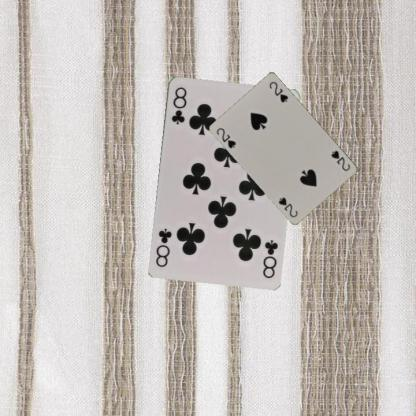2s: (214, 124, 237, 150), (329, 148, 351, 172)
8c: (260, 237, 279, 280), (168, 84, 187, 126)
